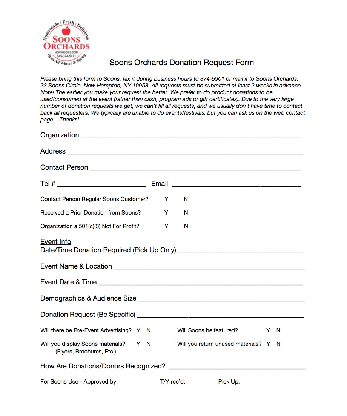textline: (89, 158, 304, 173), (65, 144, 305, 157), (79, 128, 304, 140), (97, 275, 305, 287), (112, 260, 306, 272), (136, 290, 307, 303), (136, 307, 305, 320), (170, 174, 303, 189), (177, 241, 305, 256), (168, 360, 306, 371), (55, 179, 147, 189)
